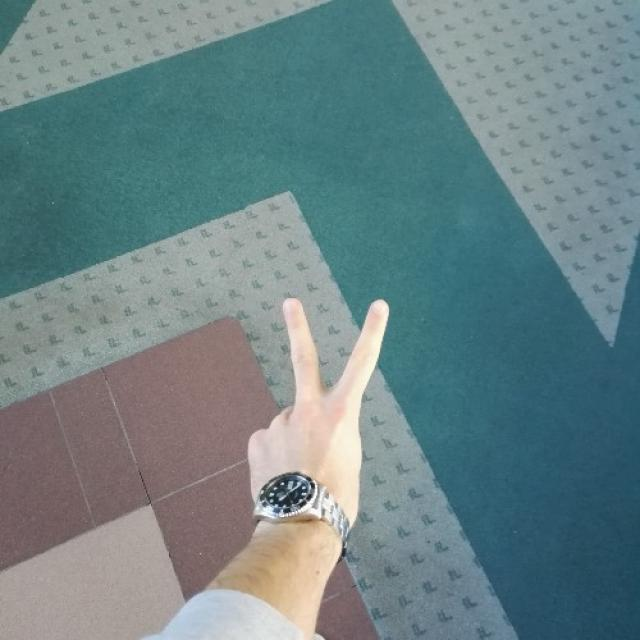scissors: (250, 296, 394, 503)
